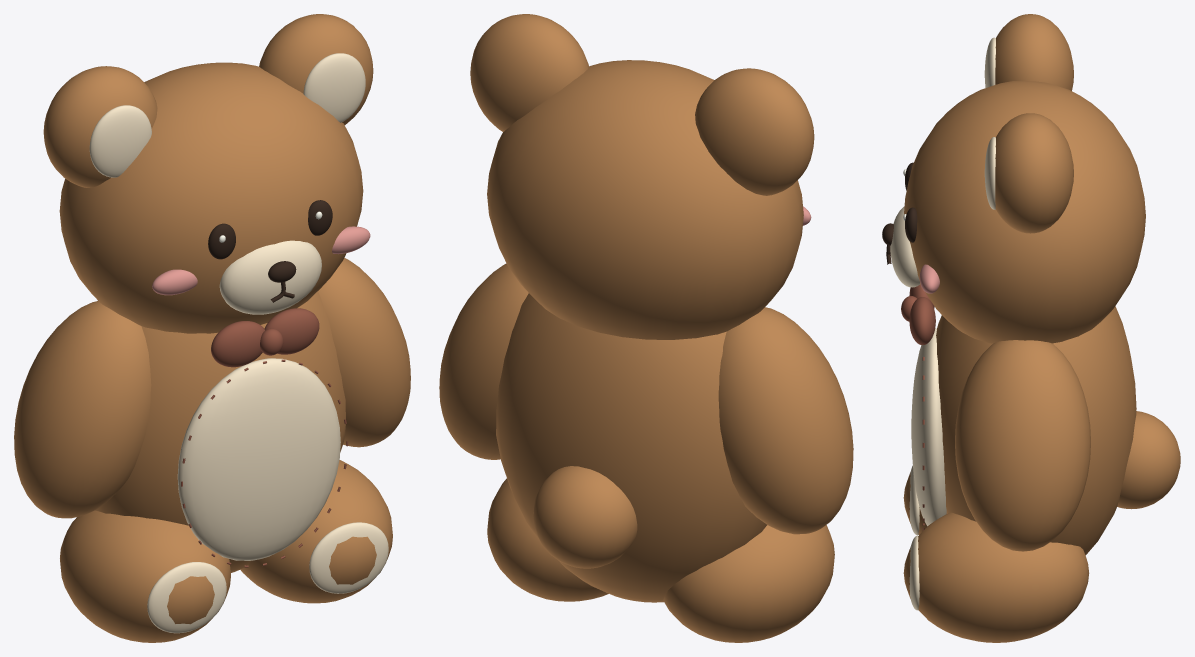
File: bear.glb
The picture shows the model from 3 angles, left to right: view 1: azimuth 30°, elevation 25°; view 2: azimuth 150°, elevation 25°; view 3: azimuth 270°, elevation 25°; orthographic projection. The views are drawn at different scales.
Parts seen in each view (by area): view 1: head, arm (×2), belly_patch, foot (×2), pear_body, ear (×2), ear_lining (×2), paw (×2), muzzle, bow_left, cheek (×2), bow_right (+2 smaller); view 2: head, pear_body, arm (×2), ear (×2), foot (×2), tail; view 3: head, arm, foot, pear_body, ear (×2), belly_patch, tail, muzzle, ear_lining (×2), paw (×2), bow_right, cheek.
Part boxes in pixels (x1,y1,x2,y2): head: (59, 62, 363, 333); arm (×2): (14, 258, 410, 518); belly_patch: (177, 358, 340, 560); foot (×2): (60, 460, 392, 642); pear_body: (95, 291, 345, 572); ear (×2): (43, 14, 373, 187); ear_lining (×2): (89, 53, 365, 177); paw (×2): (147, 522, 388, 633); muzzle: (219, 240, 321, 314); bow_left: (211, 321, 264, 367); cheek (×2): (152, 226, 370, 295); bow_right: (264, 308, 319, 354); head: (487, 60, 803, 339); pear_body: (496, 293, 766, 602); arm (×2): (439, 263, 853, 534); ear (×2): (470, 14, 814, 195); foot (×2): (487, 478, 834, 642); tail: (533, 466, 637, 568); head: (904, 81, 1145, 343); arm: (955, 340, 1090, 551); foot: (903, 512, 1089, 642); pear_body: (936, 306, 1136, 555); ear (×2): (995, 14, 1073, 233); belly_patch: (911, 328, 946, 526); tail: (1117, 411, 1180, 509); muzzle: (890, 206, 919, 287); ear_lining (×2): (984, 37, 995, 209); paw (×2): (909, 465, 919, 610); bow_right: (909, 297, 935, 345); cheek: (919, 264, 939, 293).
Size of the model in its own units: 1.1 by 1.54 by 0.789.
